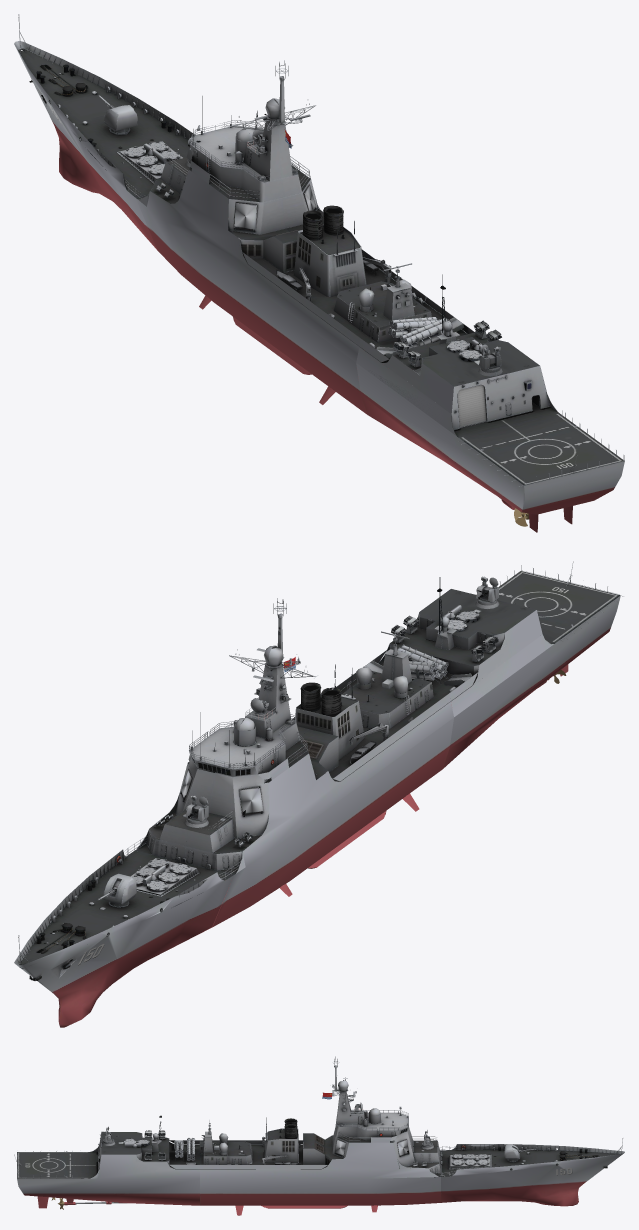
Rendered from type_052c.glb.
The picture shows the model from 3 angles, top to bottom: view 1: azimuth 30°, elevation 25°; view 2: azimuth 150°, elevation 25°; view 3: azimuth 270°, elevation 25°; orthographic projection. The views are drawn at different scales.
Parts seen in each view (by area): view 1: Object_24, Object_13, Object_10, Object_19; view 2: Object_24, Object_13, Object_10, Object_19; view 3: Object_19, Object_13, Object_10, Object_24.
Part boxes in pixels (x1,y1,x2,y2): Object_24: (136,60,405,414); Object_13: (199,274,624,532); Object_10: (14,14,502,376); Object_19: (215,98,452,369); Object_24: (184,598,453,927); Object_13: (280,561,623,896); Object_10: (14,576,499,1027); Object_19: (135,631,398,902); Object_19: (200,1080,440,1205); Object_13: (14,1115,377,1215); Object_10: (102,1090,624,1206); Object_24: (199,1056,440,1162).
Size of the model in its own units: 16.89 by 41.76 by 155.
8 materials, 7 textured.
